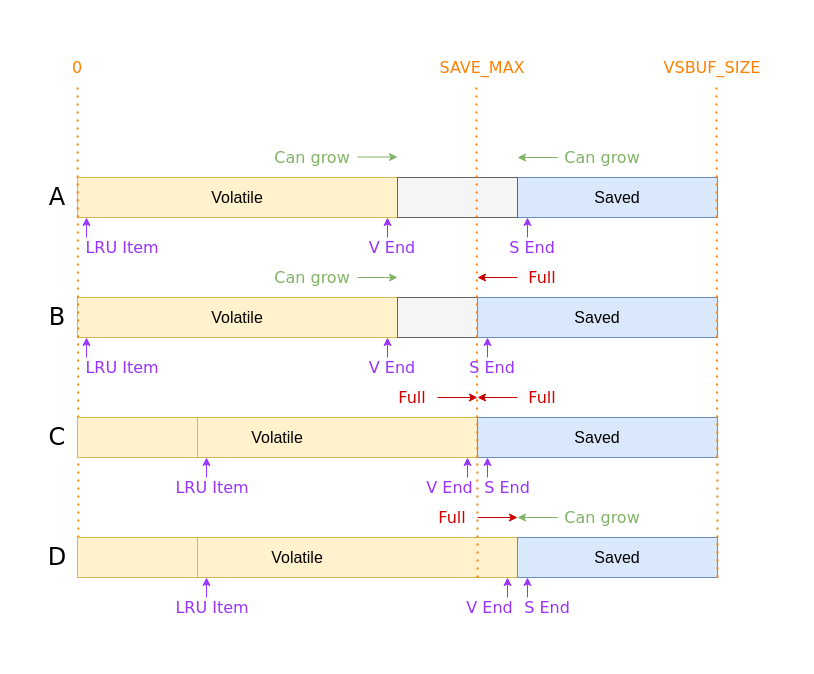
Image size: 814x674. Some labels were removed from this diagram. The shapes that lost their labels are listed below. From the top down, each one's centre as x and y in pixels, then its label:
At point (457, 197): "Empty".
At point (437, 317): "Emtpy".
